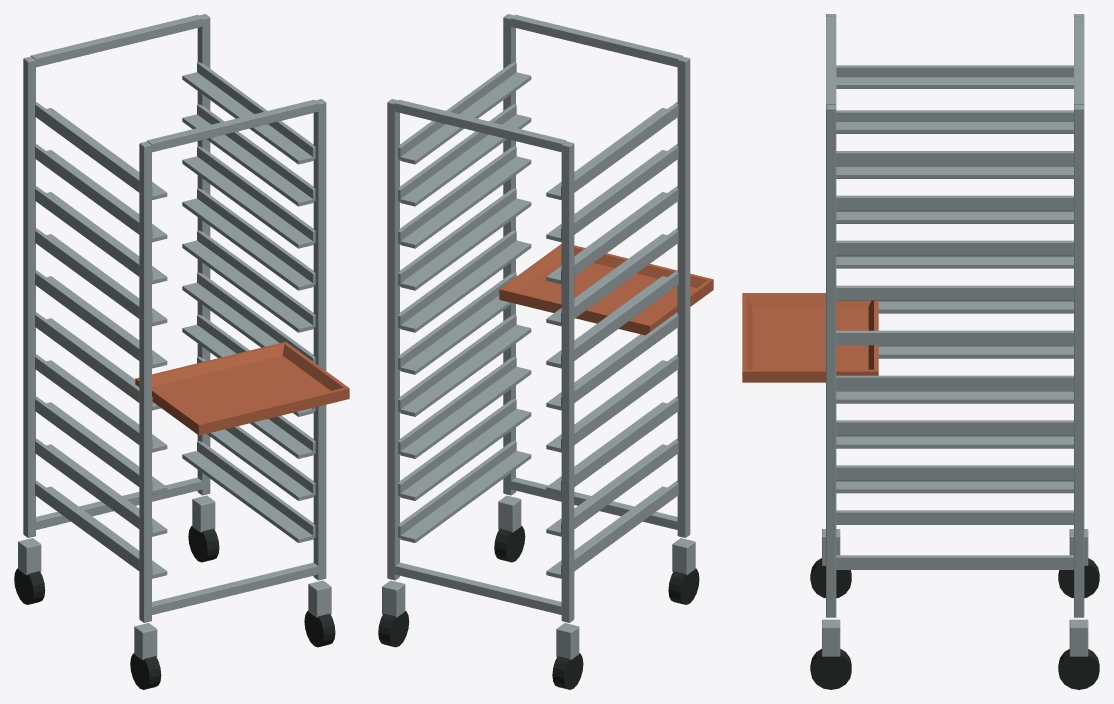
Rendered from source-edit.glb.
3 renders of one model, left to right at view 1: azimuth 30°, elevation 25°; view 2: azimuth 150°, elevation 25°; view 3: azimuth 270°, elevation 25°, orthographic. The views are drawn at different scales.
Visible parts, largest first — view 1: CONTEXT_Tray_Reuse439, POST_-0.26_-0.3, POST_-0.26_0.3, POST_0.26_-0.3, CROSSBAR_1.54_-0.3, CROSSBAR_1.54_0.3, CROSSBAR_0.22_-0.3, RAIL_Horizontal_7_1, RAIL_Horizontal_5_1, RAIL_Horizontal_0_1, RAIL_Horizontal_6_1, POST_0.26_0.3 (+45 smaller); view 2: CONTEXT_Tray_Reuse439, POST_-0.26_0.3, POST_-0.26_-0.3, POST_0.26_0.3, CROSSBAR_1.54_0.3, CROSSBAR_1.54_-0.3, CROSSBAR_0.22_0.3, RAIL_Horizontal_5_1, RAIL_Horizontal_2_1, RAIL_Horizontal_6_1, RAIL_Horizontal_1_1, RAIL_Horizontal_3_1 (+45 smaller); view 3: CONTEXT_Tray_Reuse439, POST_0.26_-0.3, POST_0.26_0.3, RAIL_Upstand_2_1, RAIL_Upstand_3_1, RAIL_Upstand_4_1, RAIL_Upstand_5_1, RAIL_Upstand_6_1, RAIL_Upstand_7_1, RAIL_Upstand_8_1, RAIL_Upstand_0_1, RAIL_Upstand_1_1 (+21 smaller).
Boxes of the visible parts, left/top/right/bottom form: CONTEXT_Tray_Reuse439: left=135, top=341, right=349, bottom=435; POST_-0.26_-0.3: left=139, top=141, right=151, bottom=622; POST_-0.26_0.3: left=23, top=56, right=35, bottom=537; POST_0.26_-0.3: left=313, top=99, right=326, bottom=580; CROSSBAR_1.54_-0.3: left=147, top=99, right=318, bottom=152; CROSSBAR_1.54_0.3: left=30, top=14, right=202, bottom=67; CROSSBAR_0.22_-0.3: left=151, top=562, right=318, bottom=614; RAIL_Horizontal_7_1: left=182, top=156, right=313, bottom=248; RAIL_Horizontal_5_1: left=182, top=240, right=313, bottom=332; RAIL_Horizontal_0_1: left=182, top=451, right=313, bottom=542; RAIL_Horizontal_6_1: left=182, top=198, right=313, bottom=290; POST_0.26_0.3: left=197, top=14, right=210, bottom=495; CONTEXT_Tray_Reuse439: left=499, top=244, right=713, bottom=335; POST_-0.26_0.3: left=561, top=141, right=574, bottom=622; POST_-0.26_-0.3: left=677, top=56, right=690, bottom=537; POST_0.26_0.3: left=387, top=99, right=399, bottom=580; CROSSBAR_1.54_0.3: left=394, top=99, right=566, bottom=152; CROSSBAR_1.54_-0.3: left=511, top=14, right=682, bottom=67; CROSSBAR_0.22_0.3: left=395, top=562, right=561, bottom=614; RAIL_Horizontal_5_1: left=400, top=240, right=531, bottom=332; RAIL_Horizontal_2_1: left=400, top=366, right=531, bottom=458; RAIL_Horizontal_6_1: left=400, top=198, right=531, bottom=290; RAIL_Horizontal_1_1: left=400, top=408, right=531, bottom=500; RAIL_Horizontal_3_1: left=400, top=324, right=531, bottom=416; CONTEXT_Tray_Reuse439: left=742, top=293, right=878, bottom=382; POST_0.26_-0.3: left=826, top=105, right=836, bottom=617; POST_0.26_0.3: left=1074, top=105, right=1084, bottom=617; RAIL_Upstand_2_1: left=836, top=465, right=1073, bottom=480; RAIL_Upstand_3_1: left=836, top=420, right=1073, bottom=435; RAIL_Upstand_4_1: left=836, top=375, right=1073, bottom=390; RAIL_Upstand_5_1: left=836, top=330, right=1073, bottom=345; RAIL_Upstand_6_1: left=836, top=285, right=1073, bottom=300; RAIL_Upstand_7_1: left=836, top=240, right=1073, bottom=255; RAIL_Upstand_8_1: left=836, top=195, right=1073, bottom=210; RAIL_Upstand_0_1: left=836, top=555, right=1073, bottom=569; RAIL_Upstand_1_1: left=836, top=510, right=1073, bottom=524.
Bounding box in the file's own units: 0.565 × 1.55 × 0.865.
